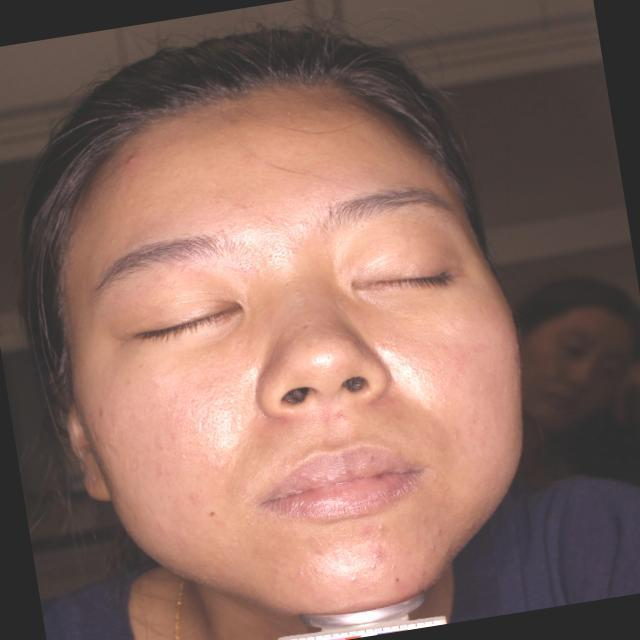acne: (120, 146, 145, 173), (364, 545, 389, 567)
